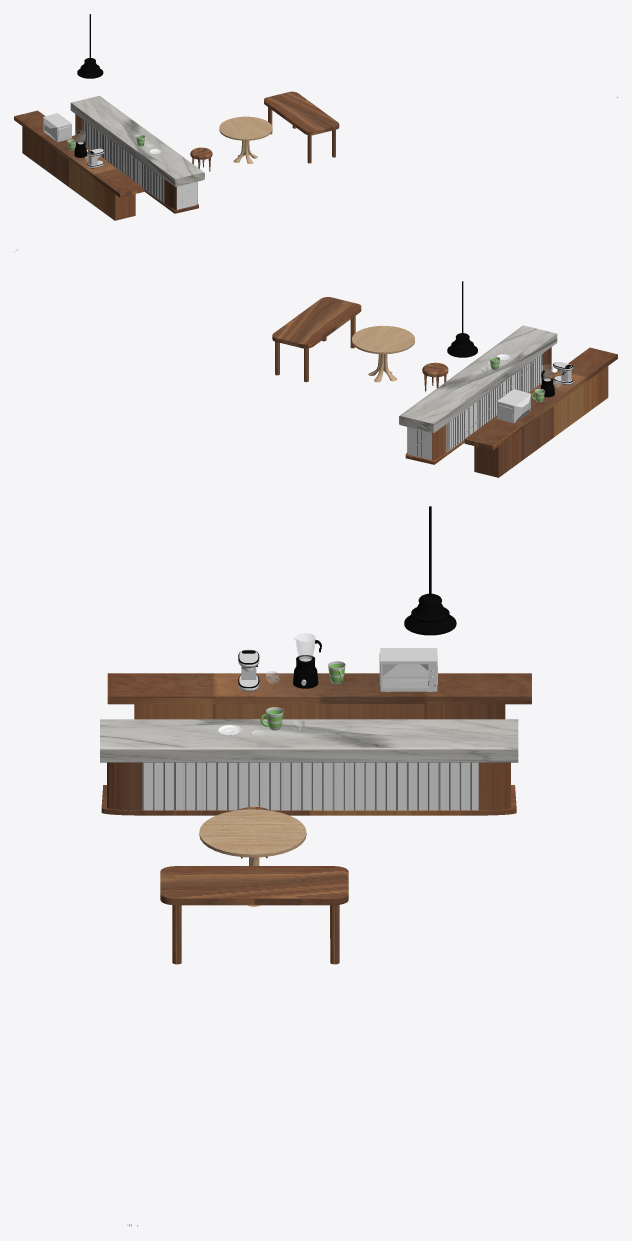
File: Cafe.glb
3 views of the same model, one above another, from view 1: azimuth 30°, elevation 25°; view 2: azimuth 150°, elevation 25°; view 3: azimuth 270°, elevation 25° (orthographic). The views are drawn at different scales.
Visible parts, largest first — view 1: Cube, Cube.008, Cube.017, Cylinder.044, Cube.006, Cylinder.033, Cube.001; view 2: Cube, Cube.008, Cube.017, Cylinder.044, Cube.006, Cylinder.033, Cube.001, Cube.011; view 3: Cube, Cube.008, Cube.017, Cylinder.044, Cube.006, Cylinder.033.
Part boxes in pixels (x1,y1,x2,y2): Cube: (70, 96, 204, 213); Cube.008: (14, 110, 143, 220); Cube.017: (264, 91, 339, 163); Cylinder.044: (219, 116, 272, 163); Cube.006: (43, 113, 72, 141); Cylinder.033: (77, 14, 103, 78); Cube.001: (190, 147, 212, 171); Cube: (399, 325, 557, 464); Cube.008: (464, 347, 617, 477); Cube.017: (272, 297, 361, 382); Cylinder.044: (352, 325, 414, 382); Cube.006: (496, 389, 531, 423); Cylinder.033: (447, 281, 477, 357); Cube.001: (422, 362, 448, 391); Cube.011: (553, 362, 573, 384); Cube: (100, 719, 518, 815); Cube.008: (107, 673, 531, 719); Cube.017: (160, 866, 348, 964); Cylinder.044: (199, 809, 306, 906); Cube.006: (379, 648, 437, 691); Cylinder.033: (404, 506, 456, 635).
Size of what is drawn, in the model's own units: 98.63 by 26.27 by 36.65.
Materials: 24 (4 with a texture image).
